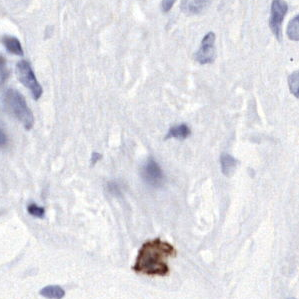Lymphocyte: (133, 238, 173, 277)
